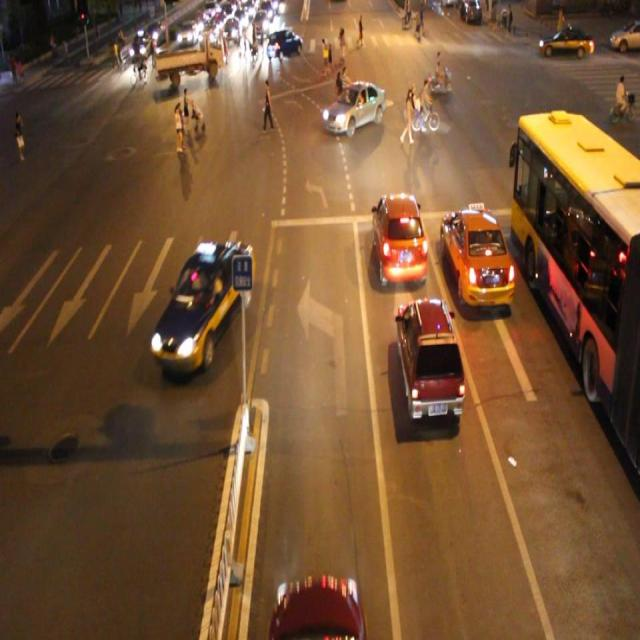bus: (154, 34, 227, 84)
car: (150, 237, 252, 375), (395, 297, 466, 422), (440, 204, 518, 308), (373, 192, 429, 288), (322, 79, 385, 136), (266, 27, 303, 59)
van: (511, 116, 640, 468)
